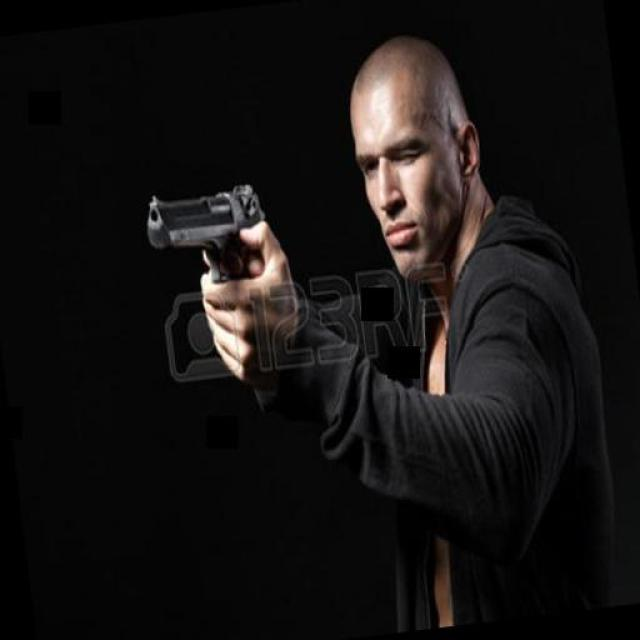gun: (140, 181, 276, 295)
